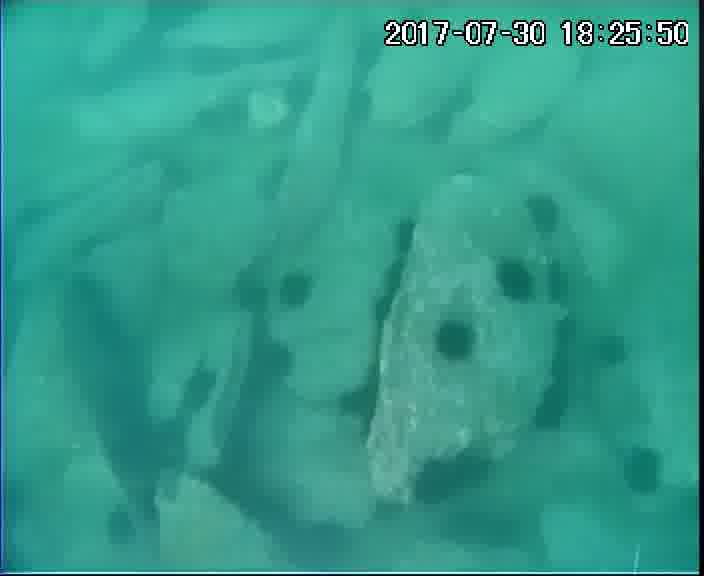echinus: (103, 414, 178, 480), (441, 501, 531, 553), (491, 252, 538, 309), (621, 445, 668, 500), (412, 454, 458, 509), (434, 319, 479, 366), (447, 449, 494, 494), (523, 191, 566, 238), (276, 267, 316, 313), (103, 505, 143, 550), (253, 342, 298, 381), (145, 1, 198, 34), (281, 73, 321, 115), (186, 364, 220, 413), (543, 260, 575, 311), (189, 45, 233, 79), (595, 333, 631, 373), (536, 389, 573, 427), (343, 89, 378, 129), (235, 281, 272, 317), (339, 385, 375, 421), (353, 41, 386, 73), (393, 217, 422, 253), (383, 261, 410, 296), (374, 289, 396, 329)
